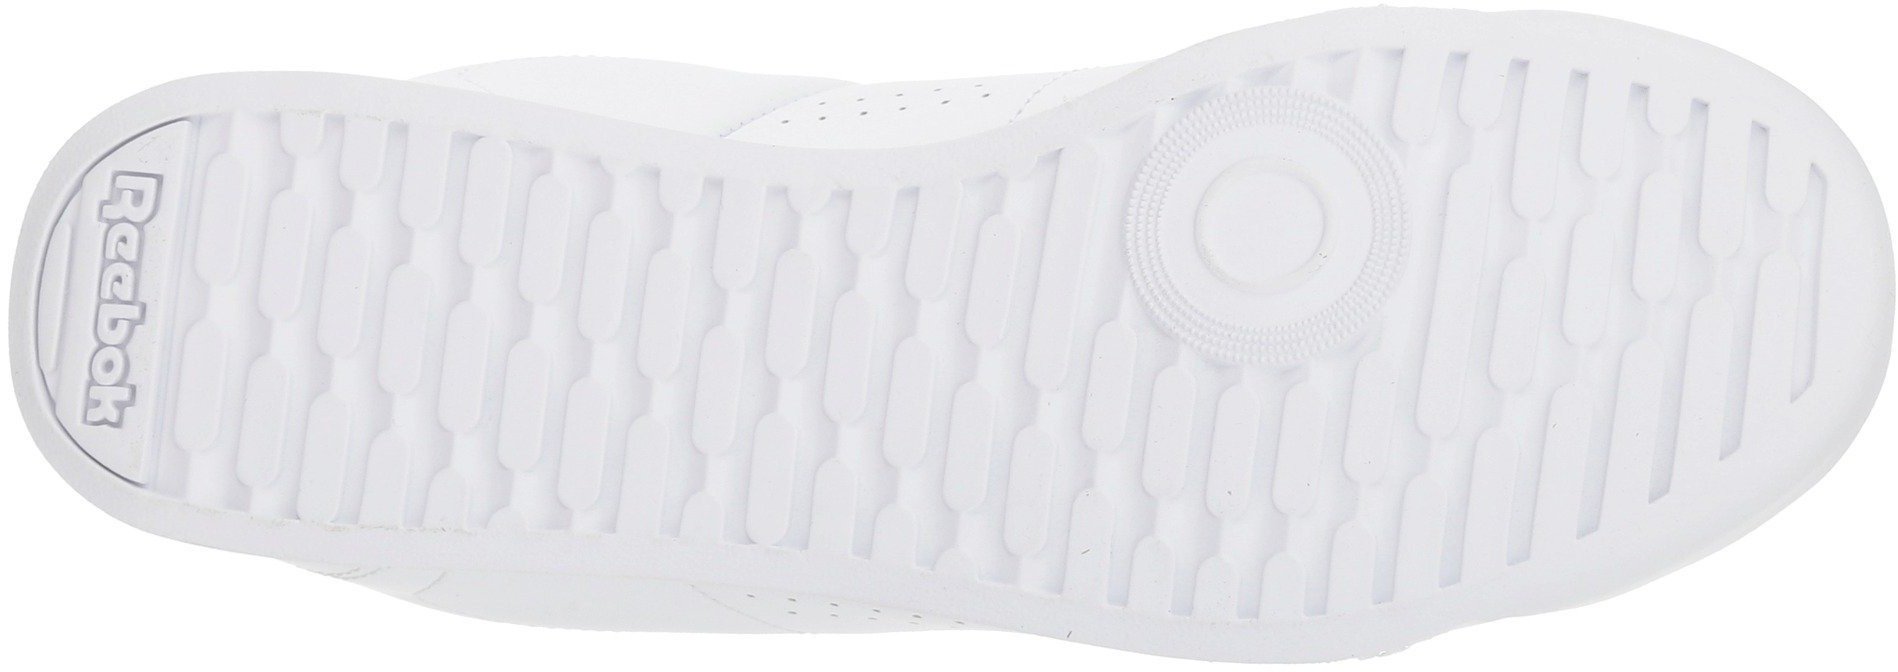circle: (1171, 154, 1348, 332)
quad: (684, 174, 1071, 548), (253, 155, 638, 523), (1410, 122, 1745, 436)
text: (68, 270, 163, 364), (67, 374, 154, 458), (97, 180, 173, 257)
